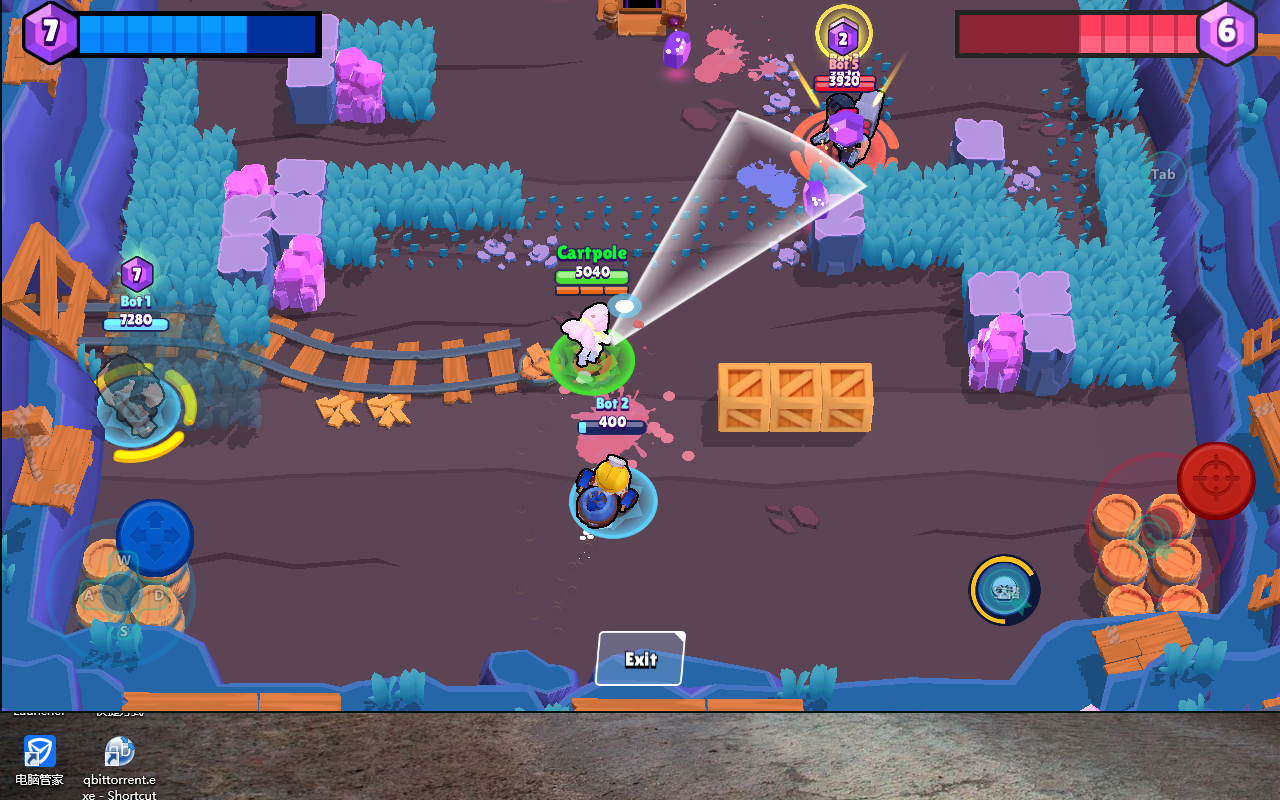current_player: (551, 332, 633, 397)
